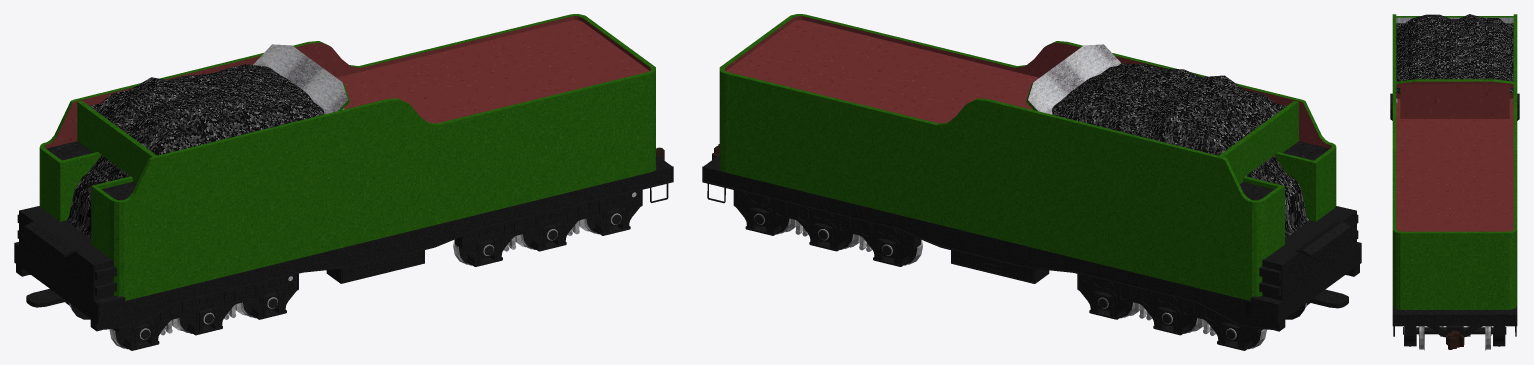
File: ps4_tender_big.obj
The picture shows the model from 3 angles, left to right: view 1: azimuth 30°, elevation 25°; view 2: azimuth 150°, elevation 25°; view 3: azimuth 270°, elevation 25°; orthographic projection. The views are drawn at different scales.
Parts seen in each view (by area): view 1: SHELL_Cube.012, coal_Cube.031, FRAME_Cube.017, BOGEY_REAR_Cube.007, BOGEY_FRONT_Cube.030, Cube_Cube.018; view 2: SHELL_Cube.012, coal_Cube.031, FRAME_Cube.017, BOGEY_REAR_Cube.007, BOGEY_FRONT_Cube.030, Cube_Cube.018; view 3: SHELL_Cube.012, coal_Cube.031, FRAME_Cube.017, BOGEY_REAR_Cube.007, BOGEY_REAR_WHEEL_3_Cube.006, FRONT_COUPLER.001_Cube.015.
Boxes of the visible parts, box(x1,y1,x2,y2) form: SHELL_Cube.012: box(17, 14, 655, 300); coal_Cube.031: box(67, 64, 324, 238); FRAME_Cube.017: box(14, 154, 673, 331); BOGEY_REAR_Cube.007: box(455, 190, 642, 266); BOGEY_FRONT_Cube.030: box(65, 273, 298, 350); Cube_Cube.018: box(26, 288, 66, 307); SHELL_Cube.012: box(719, 14, 1358, 300); coal_Cube.031: box(1052, 63, 1309, 238); FRAME_Cube.017: box(702, 155, 1361, 331); BOGEY_REAR_Cube.007: box(733, 190, 920, 266); BOGEY_FRONT_Cube.030: box(1077, 274, 1309, 350); Cube_Cube.018: box(1308, 289, 1348, 308); SHELL_Cube.012: box(1392, 14, 1517, 309); coal_Cube.031: box(1396, 14, 1513, 93); FRAME_Cube.017: box(1390, 93, 1519, 335); BOGEY_REAR_Cube.007: box(1403, 326, 1506, 346); BOGEY_REAR_WHEEL_3_Cube.006: box(1416, 326, 1493, 350); FRONT_COUPLER.001_Cube.015: box(1446, 330, 1464, 349).
Bounding box in the file's own units: 12.8 × 4.38 × 2.94.
7 materials, 7 textured.
